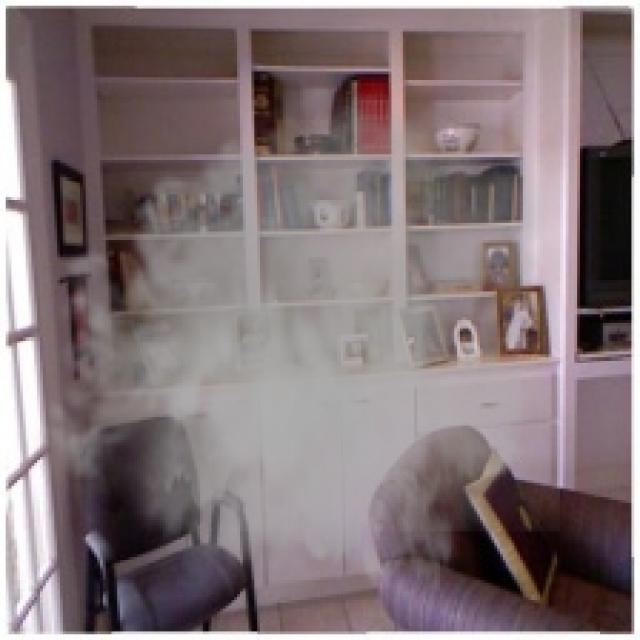smoke: (29, 74, 560, 629)
